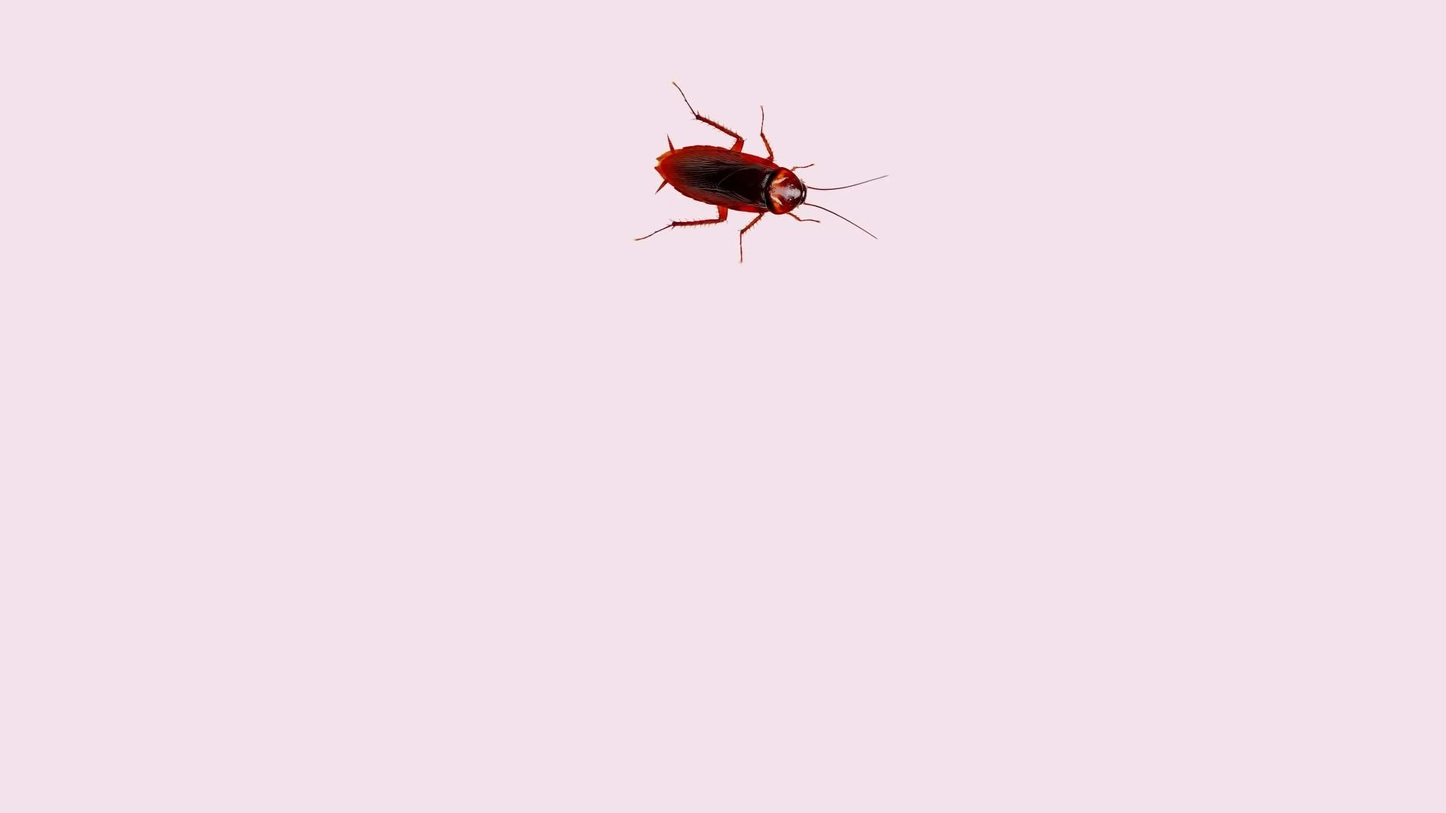cockroach: (644, 91, 890, 267)
